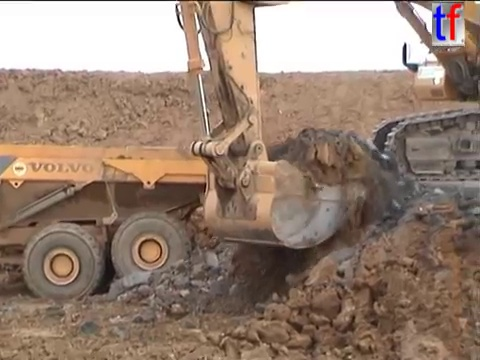excavator: (172, 1, 480, 252)
truck: (1, 139, 289, 305)
